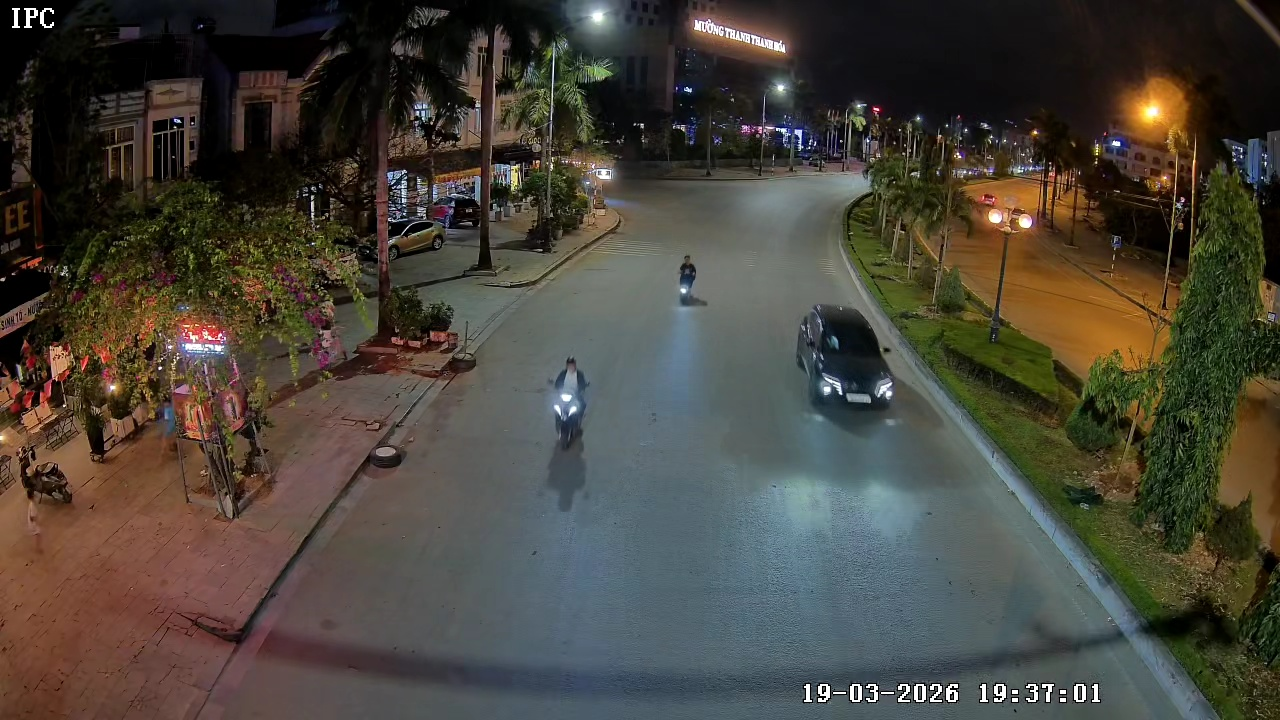car: (795, 302, 895, 410)
motorbike: (544, 353, 594, 449), (675, 252, 707, 309)
